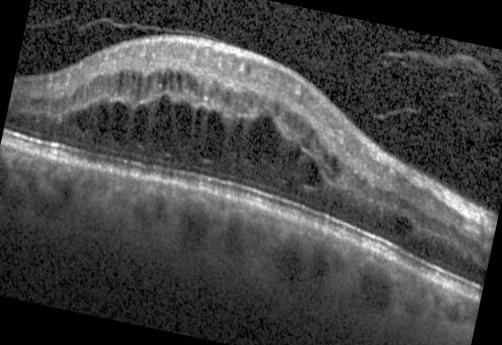intraretinal_cyst: (244, 112, 282, 163), (276, 144, 319, 186), (150, 94, 179, 153), (200, 110, 226, 160), (175, 104, 200, 151), (227, 121, 244, 164), (375, 216, 412, 235), (111, 102, 129, 141), (132, 104, 150, 142), (96, 105, 110, 136), (321, 153, 340, 175), (75, 110, 94, 132), (192, 109, 206, 138), (185, 73, 199, 94), (208, 79, 220, 101), (302, 129, 315, 148), (223, 90, 232, 104), (169, 71, 175, 89), (137, 72, 143, 90), (163, 72, 168, 89), (177, 73, 182, 90), (147, 75, 153, 89), (157, 71, 162, 87), (275, 105, 280, 116), (120, 72, 123, 85), (132, 74, 136, 79)
vitreomacular_traction: (27, 13, 225, 43), (368, 107, 418, 119), (458, 74, 479, 87), (441, 91, 462, 98)
